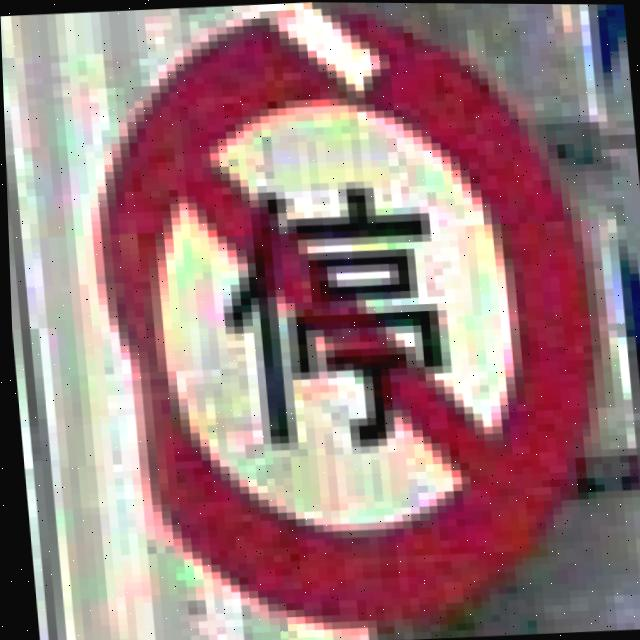nopark: (72, 0, 621, 640)
